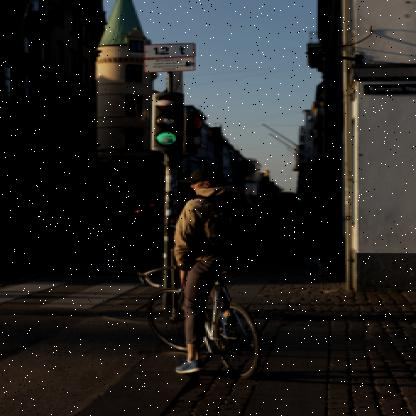trafficlight: (148, 91, 182, 151)
